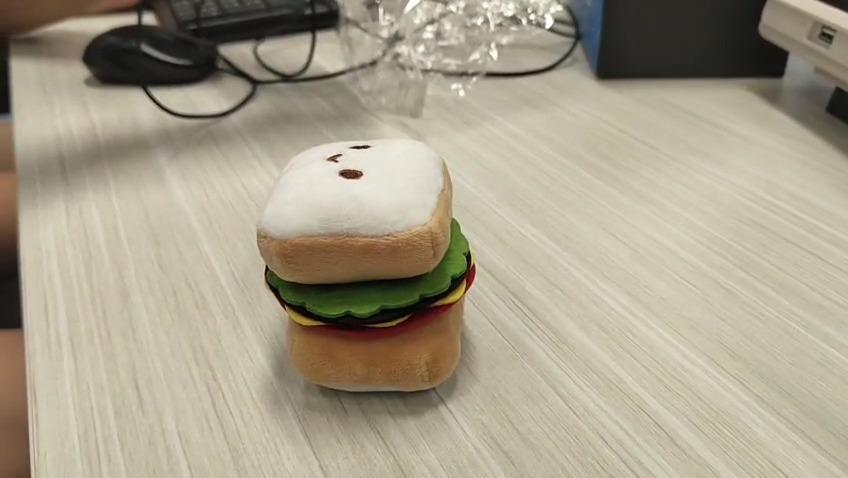objects: (256, 139, 476, 393)
